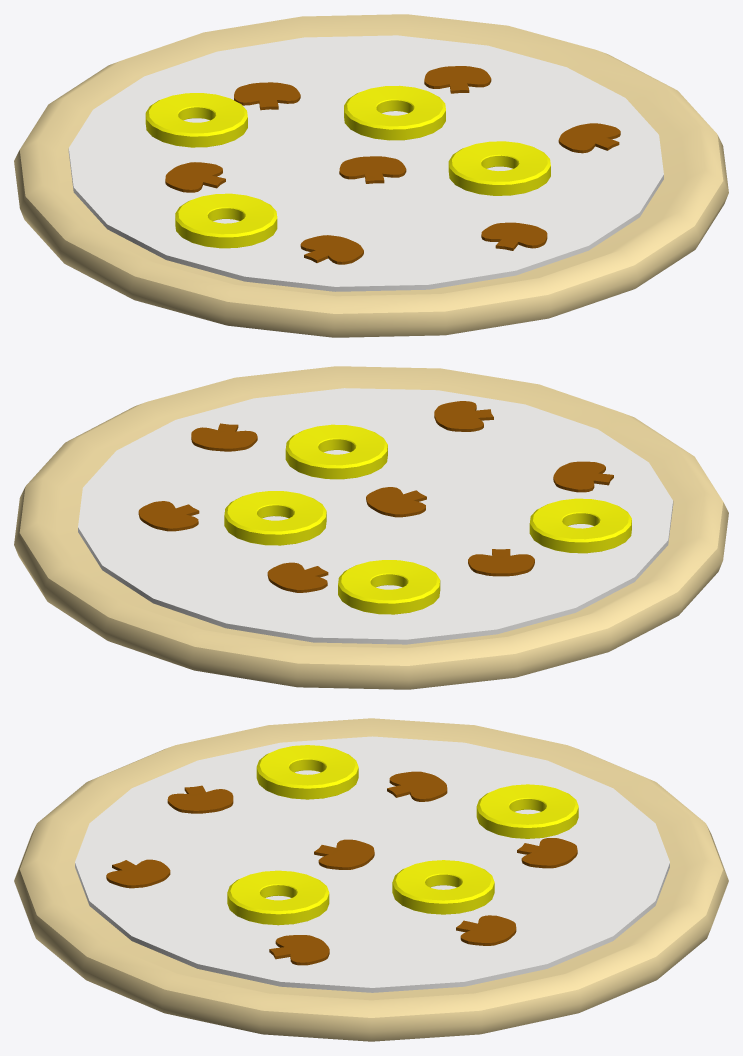
The model's file is Pizza_ananas_sopp.fbx.
The picture shows the model from 3 angles, top to bottom: view 1: azimuth 30°, elevation 25°; view 2: azimuth 150°, elevation 25°; view 3: azimuth 270°, elevation 25°; orthographic projection.
Visible parts, largest first — view 1: ost, deig, Pineappel4, Sopp7; view 2: ost, deig, Pineappel4, Sopp7; view 3: ost, deig, Pineappel4, Sopp7.
Part boxes in pixels (x1,y1,x2,y2): ost: (68,35,663,291); deig: (14,14,728,337); Pineappel4: (145,85,550,248); Sopp7: (165,66,620,264); ost: (78,388,673,644); deig: (14,366,728,689); Pineappel4: (224,424,631,614); Sopp7: (138,401,613,592); ost: (75,736,669,992); deig: (14,718,728,1041); Pineappel4: (227,745,578,925); Sopp7: (106,771,577,965).
Bounding box in the file's own units: 11.4 × 0.7265 × 11.4.
